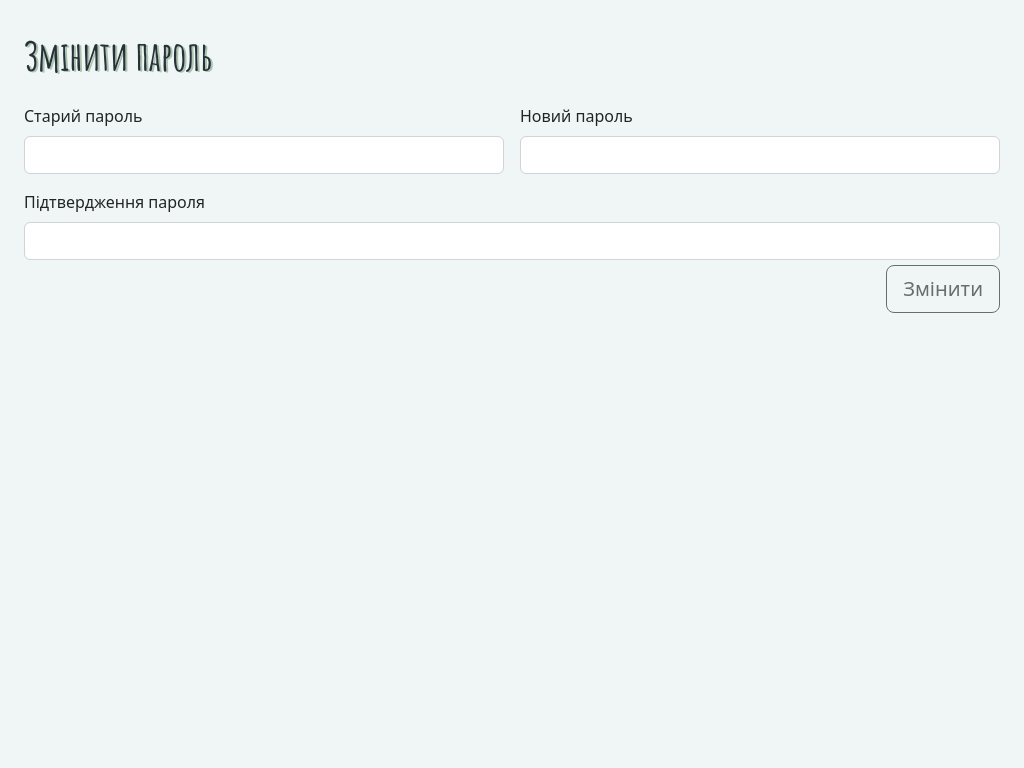
Scenario: ChangePasswordForm › Given correct data, it should submit the form successfully
Type "oldpassword" into the password field labelled "Старий пароль" at coordinates (264, 155), box [24,136,504,174]
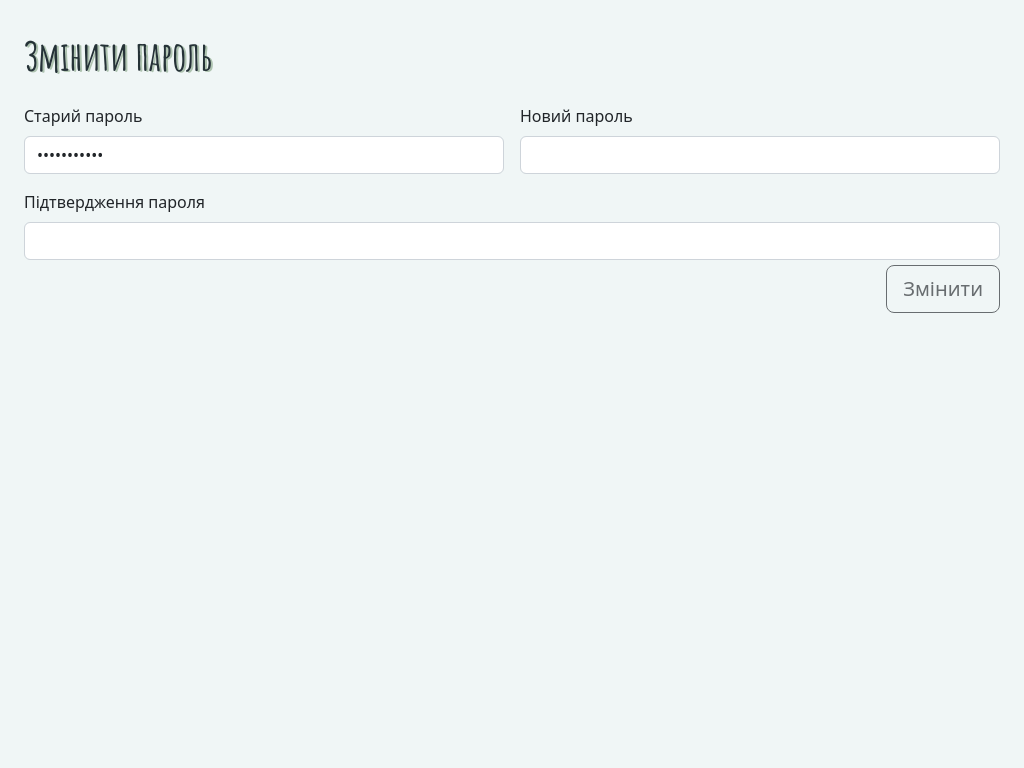
Type "newpassword" into the password field labelled "Новий пароль" at coordinates (760, 155), box [520,136,1000,174]
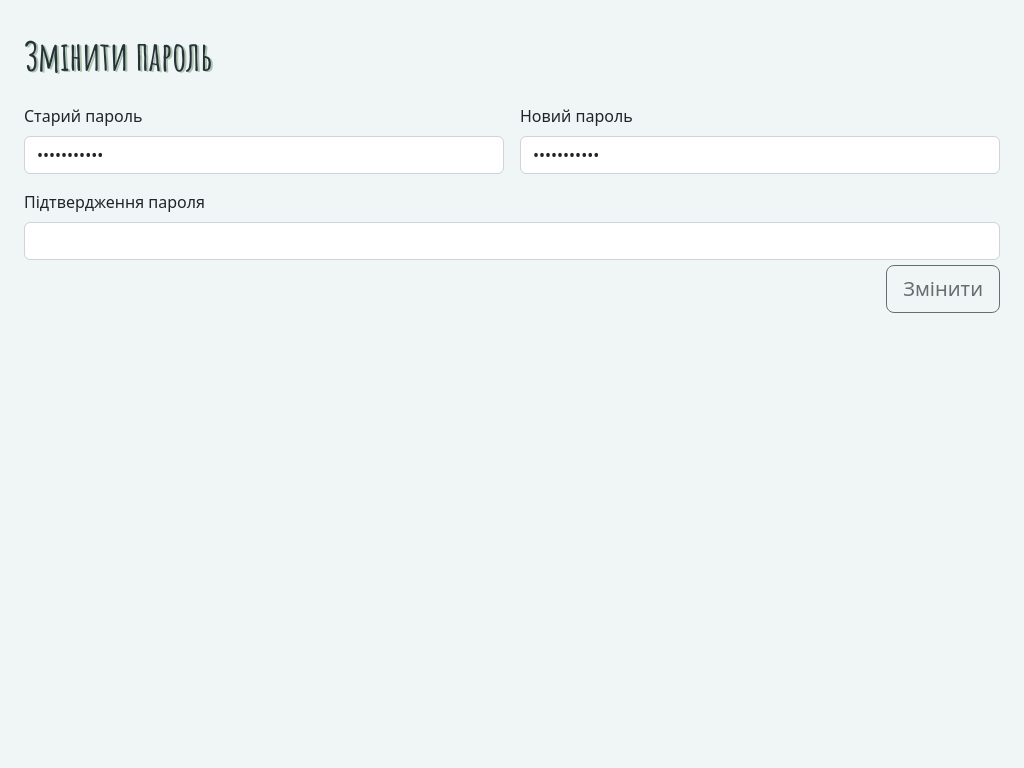
Type "newpassword" into the password field labelled "Підтвердження пароля" at coordinates (512, 241), box [24,222,1000,260]
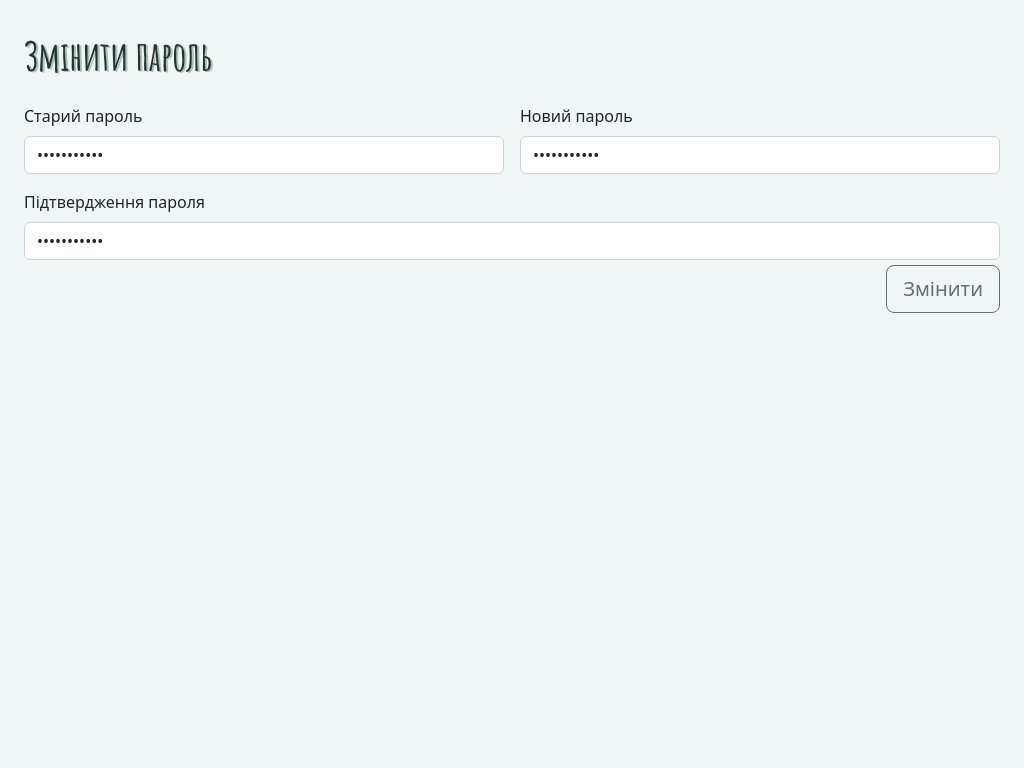
Submit the form with test id "change-password-form", box [0,0,1023,409]
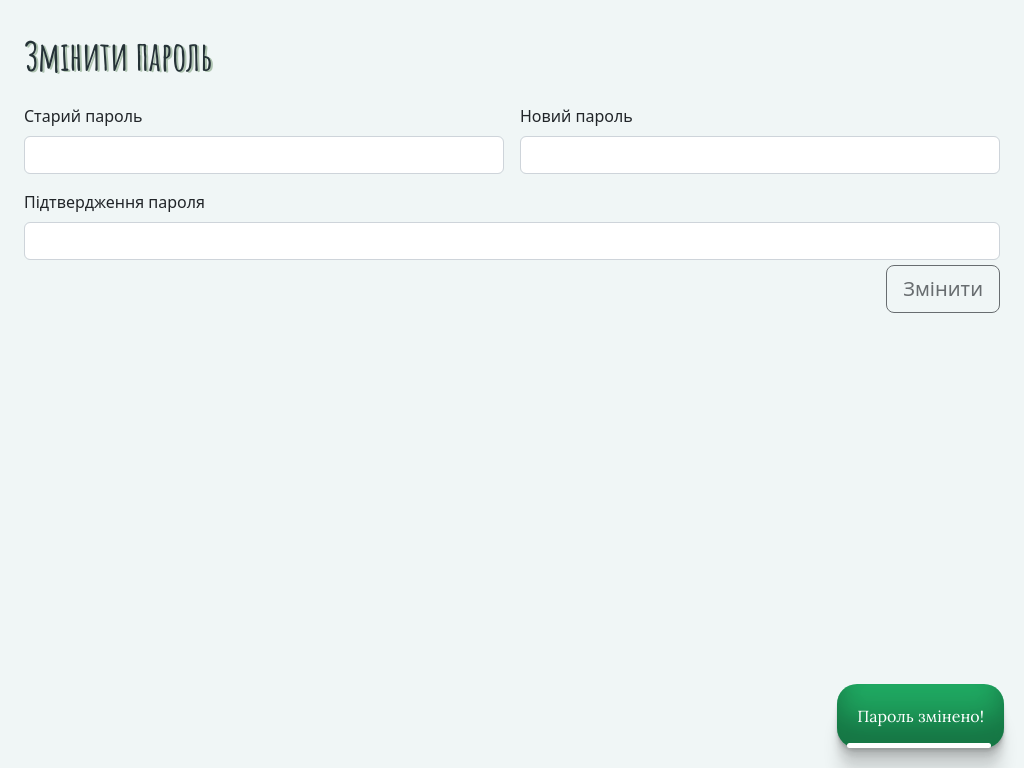
Result: the text "Пароль змінено!" is shown at [837,684,1004,748]
